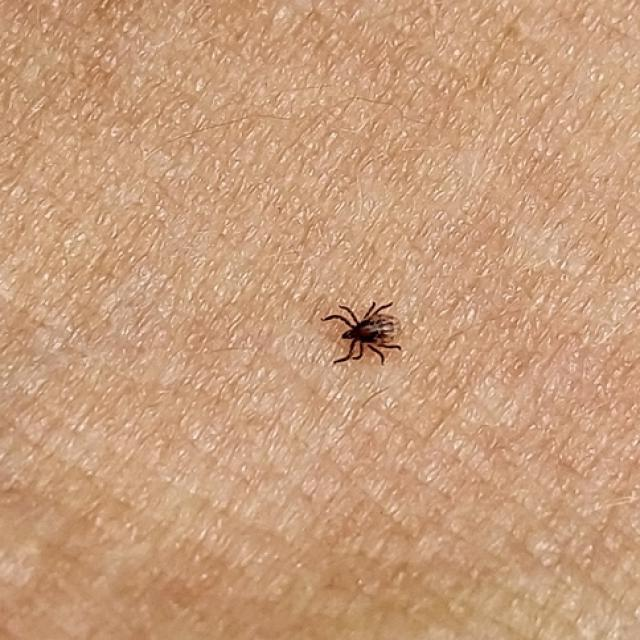Ixodes Ricinus-M: (316, 298, 405, 369)
